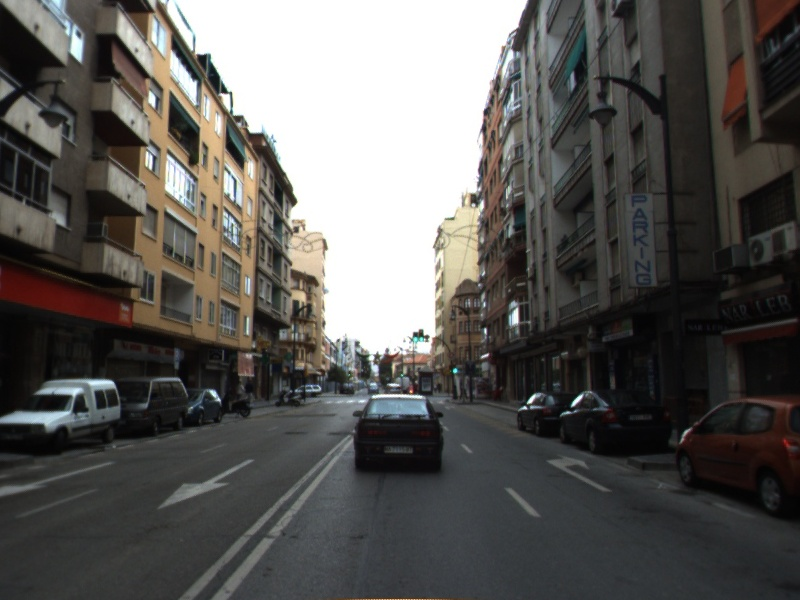RIGHT: (545, 453, 614, 494)
